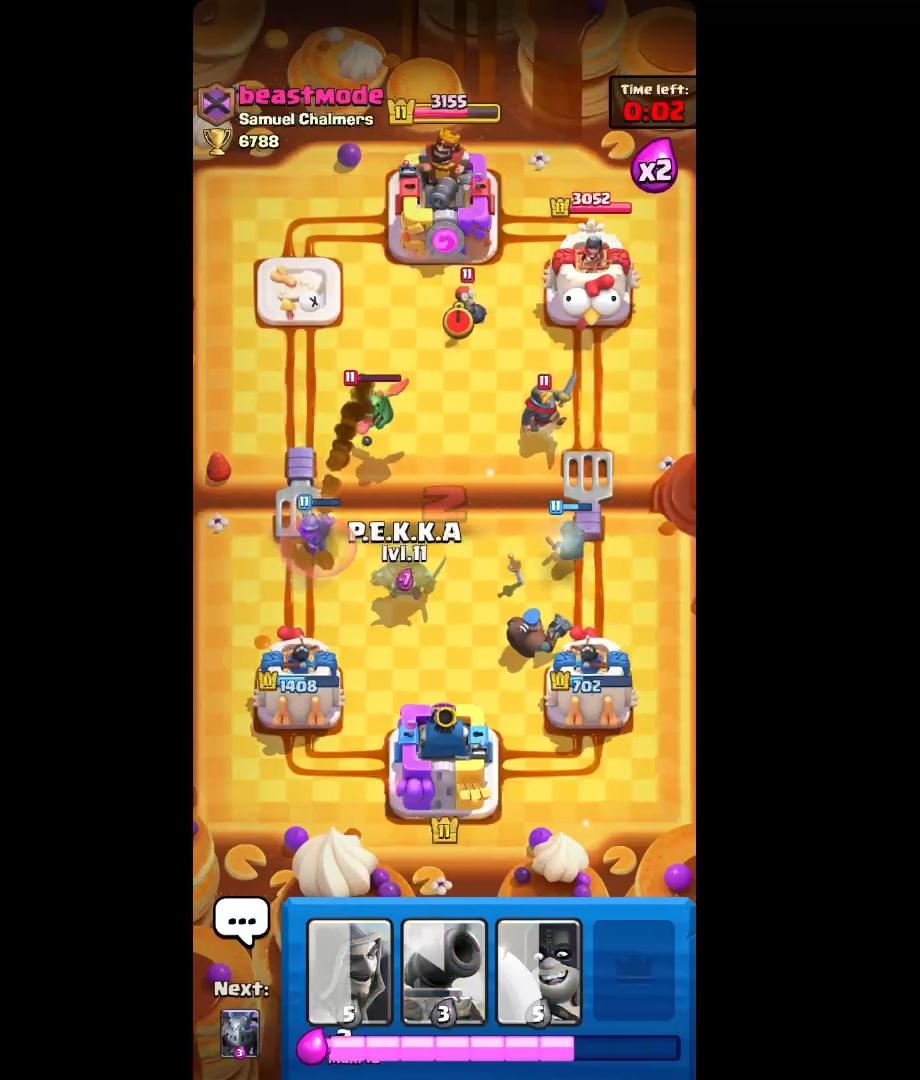Baby Dragon: (331, 367, 416, 448)
Knight: (514, 376, 578, 445)
